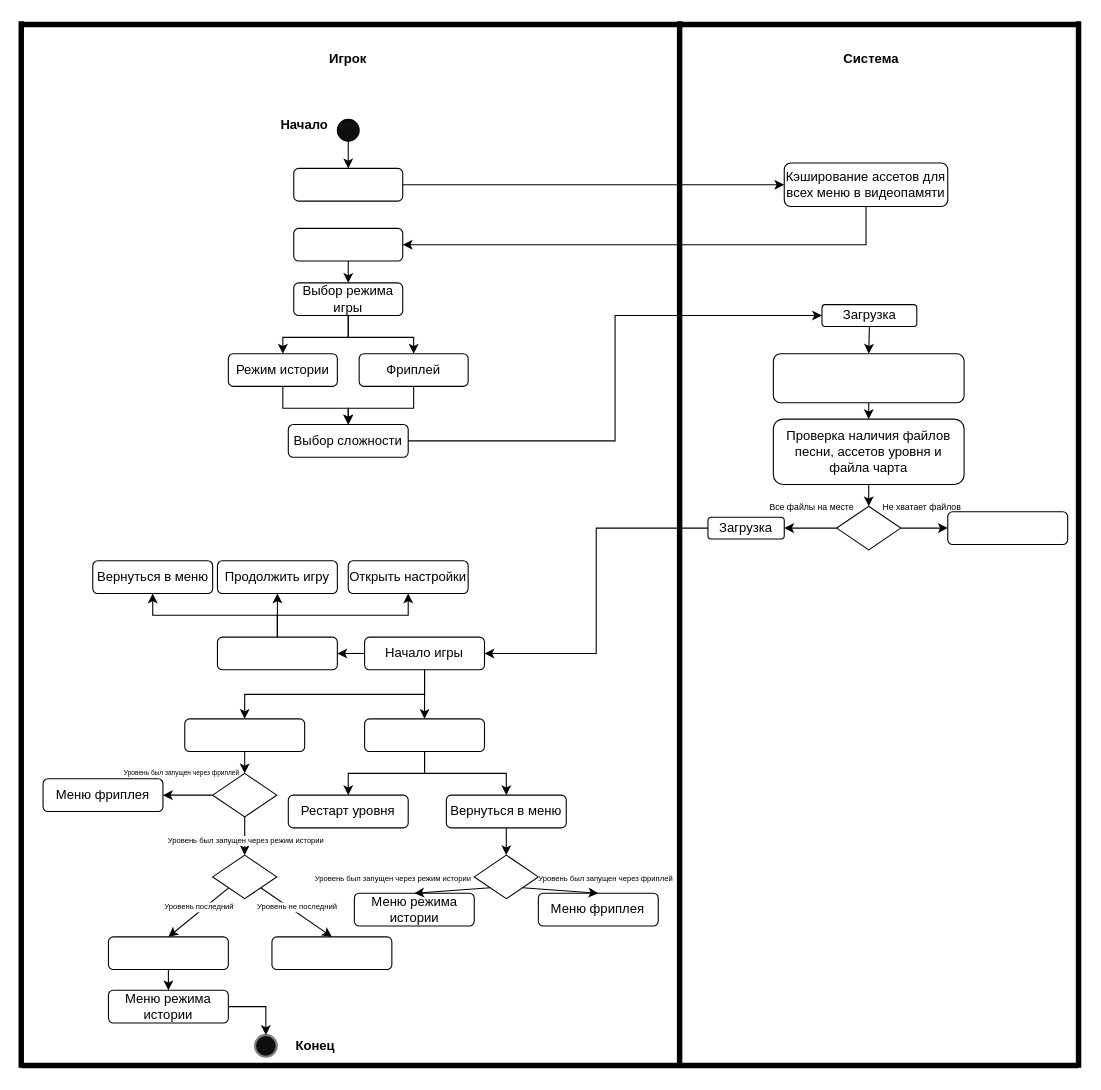
Image size: 1101x1090. Some labels were removed from this diagram. Each missing label, with the centre of its shape:
"Главное меню" belongs at point 348,244.
"Запуск игры" belongs at point 348,184.
"Меню паузы" belongs at point 276,653.
"Ошибка и закрытие игры" belongs at point 1007,527.
"Переход на экран рекорда" belongs at point 167,953.
"Проигрыш" belongs at point 424,735.
"Следующий уровень" belongs at point 331,953.
"Удаление из видеопамяти ассетов меню и кэширование ассетов выбранного уровня" belongs at point 868,378.
"Уровень пройден" belongs at point 244,735.
